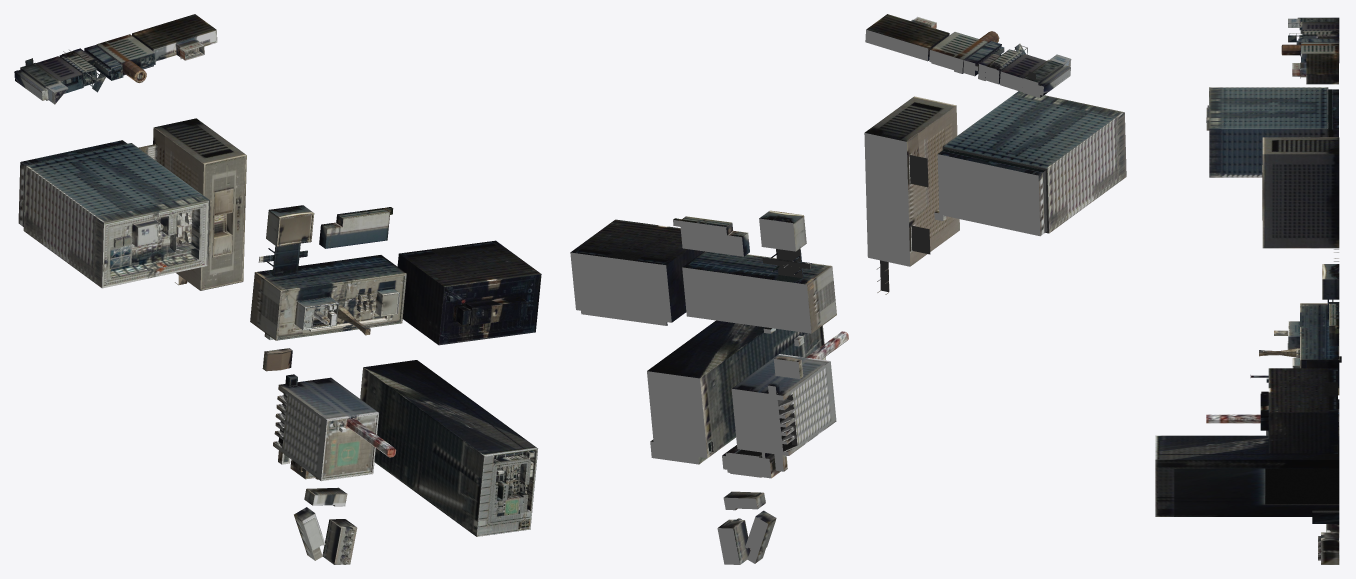
Rendered from 533946204_bldg_6677.obj.
The picture shows the model from 3 angles, left to right: view 1: azimuth 30°, elevation 25°; view 2: azimuth 150°, elevation 25°; view 3: azimuth 270°, elevation 25°; orthographic projection. The views are drawn at different scales.
Bounding box in the file's own units: 357 × 409 × 158.
21 materials, 21 textured.
